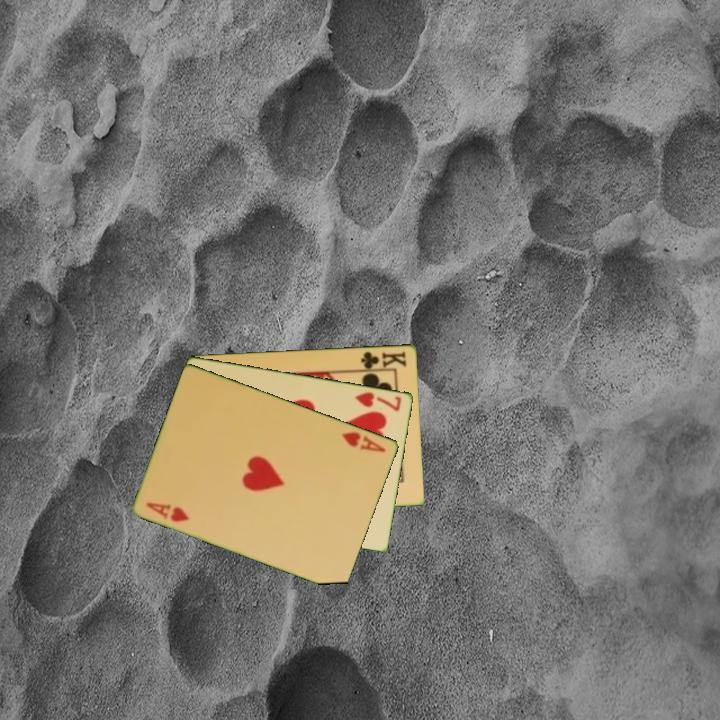7h: (352, 388, 404, 414)
Ah: (338, 428, 389, 455), (143, 499, 193, 525)
Kc: (355, 347, 409, 372)
